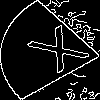X: (25, 25, 100, 82)
